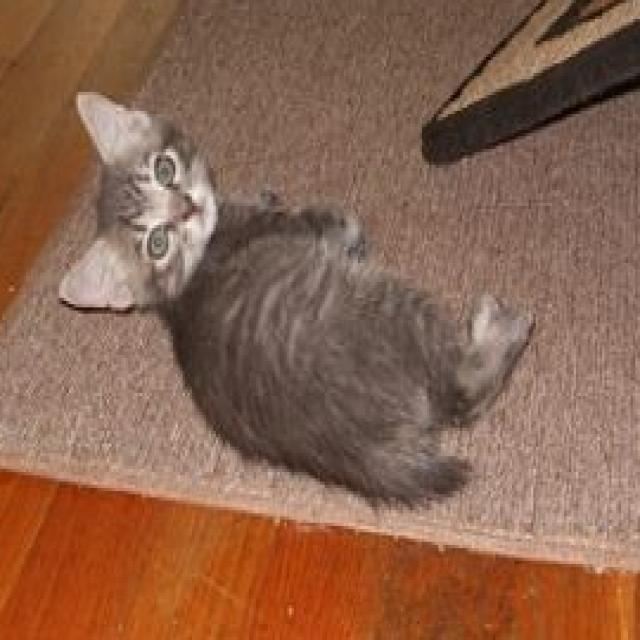American Bobtail: (56, 86, 539, 510)
